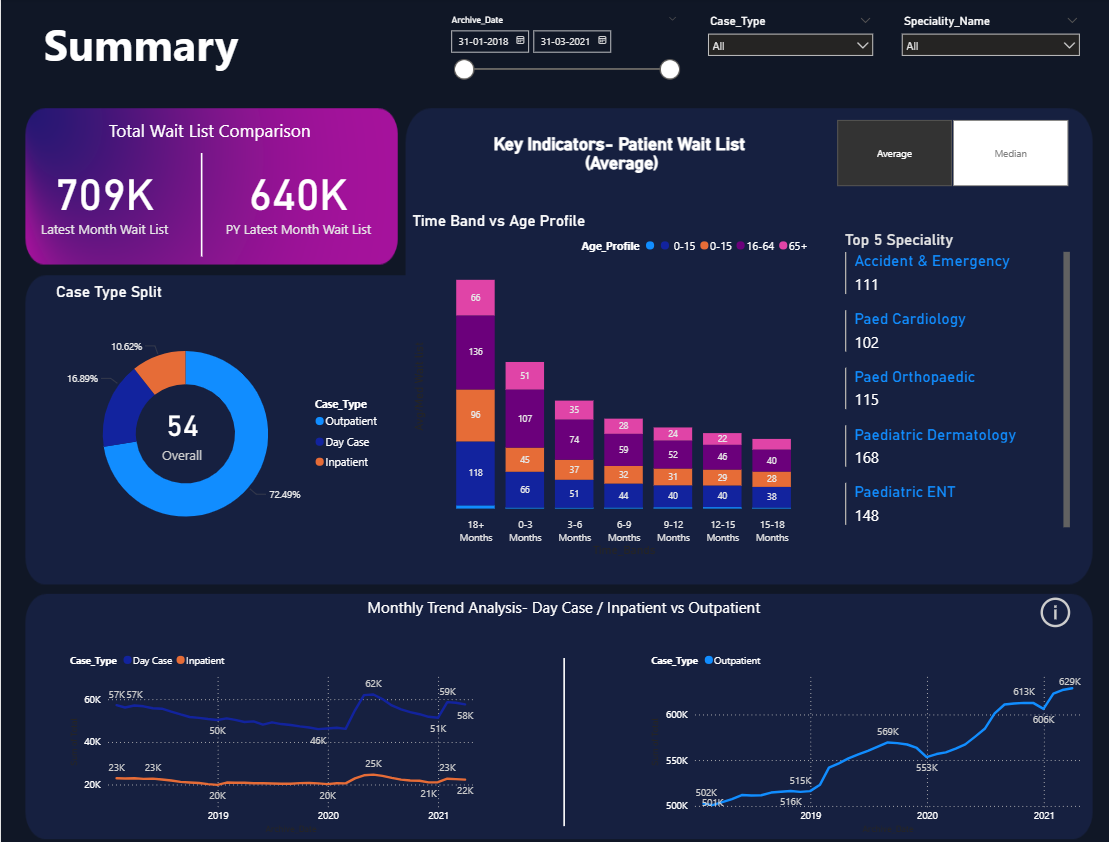

Layout of this report page (visuals, bound fields, positions):
{"tool":"powerbi","page":{"name":"Summary","canvas":[1380,1056],"ordinal":0},"visuals":[{"type":"card","fields":{"Values":["All_Data.Latest Month Wait List"]},"box":[32,192,192,112],"z":0},{"type":"card","fields":{"Values":["All_Data.PY Latest Month Wait List"]},"box":[272,192,192,112],"z":1000},{"type":"slicer","fields":{"Values":["Calculation Method.calc method"]},"box":[1008.4,143.8,335.6,95.9],"z":2000},{"type":"card","fields":{"Values":["All_Data.Avg/Med Wait list"]},"box":[176,496,96,80],"z":3000},{"type":"donutChart","title":"Case Type Split","fields":{"Category":["All_Data.Case_Type"],"Y":["All_Data.Avg/Med Wait list"]},"box":[64,352,416,352],"z":4000},{"type":"columnChart","title":"Time Band vs Age Profile","fields":{"Category":["All_Data.Time_Bands"],"Y":["All_Data.Avg/Med Wait list"],"Series":["All_Data.Age_Profile"]},"box":[504,264,504,432],"z":5000},{"type":"multiRowCard","title":"Top 5 Speciality","fields":{"Values":["All_Data.Speciality_Name","All_Data.Avg/Med Wait list"]},"box":[1040,288,288,384],"z":6000},{"type":"card","fields":{"Values":["All_Data.No Data Left"]},"box":[144,848,384,112],"z":7000},{"type":"lineChart","fields":{"Category":["All_Data.Archive_Date"],"Y":["Sum(All_Data.Total)"],"Series":["All_Data.Case_Type"]},"box":[80,800,512,240],"z":8000},{"type":"card","fields":{"Values":["All_Data.No Data Right"]},"box":[848,848,384,112],"z":9000},{"type":"lineChart","fields":{"Category":["All_Data.Archive_Date"],"Y":["Sum(All_Data.Total)"],"Series":["All_Data.Case_Type"]},"box":[800,800,544,240],"z":10000},{"type":"slicer","fields":{"Values":["All_Data.Archive_Date"]},"box":[544,16,304,112],"z":11000},{"type":"slicer","fields":{"Values":["All_Data.Case_Type"]},"box":[864,16,224,80],"z":12000},{"type":"slicer","fields":{"Values":["All_Data.Speciality_Name"]},"box":[1104,16,240,80],"z":13000},{"type":"textbox","box":[48,16,272,96],"z":14000},{"type":"textbox","box":[128,144,336,64],"z":15000},{"type":"shape","box":[224,192,48,128],"z":16000},{"type":"textbox","box":[448,736,608,48],"z":17000},{"type":"shape","box":[672,816,48,208],"z":18000},{"type":"card","fields":{"Values":["All_Data.Dynamic Title"]},"box":[552,144,432,96],"z":19000},{"type":"actionButton","box":[1280,736,48,48],"z":20000}]}

Visuals, with their boxes in screenshot pixels (x1, y1, x2, y2), scaled from the page's 1380x1056 canvas onto the 1109x842 screenshot:
card - All_Data.Latest Month Wait List: select_region(26, 153, 180, 242)
card - All_Data.PY Latest Month Wait List: select_region(219, 153, 373, 242)
slicer - Calculation Method.calc method: select_region(810, 115, 1080, 191)
card - All_Data.Avg/Med Wait list: select_region(141, 395, 219, 459)
"Case Type Split" donutChart: select_region(51, 281, 386, 561)
"Time Band vs Age Profile" columnChart: select_region(405, 210, 810, 555)
"Top 5 Speciality" multiRowCard: select_region(836, 230, 1067, 536)
card - All_Data.No Data Left: select_region(116, 676, 424, 765)
lineChart - All_Data.Archive_Date x Sum(All_Data.Total): select_region(64, 638, 476, 829)
card - All_Data.No Data Right: select_region(681, 676, 990, 765)
lineChart - All_Data.Archive_Date x Sum(All_Data.Total): select_region(643, 638, 1080, 829)
slicer - All_Data.Archive_Date: select_region(437, 13, 681, 102)
slicer - All_Data.Case_Type: select_region(694, 13, 874, 77)
slicer - All_Data.Speciality_Name: select_region(887, 13, 1080, 77)
textbox: select_region(39, 13, 257, 89)
textbox: select_region(103, 115, 373, 166)
shape: select_region(180, 153, 219, 255)
textbox: select_region(360, 587, 849, 625)
shape: select_region(540, 651, 579, 816)
card - All_Data.Dynamic Title: select_region(444, 115, 791, 191)
actionButton: select_region(1029, 587, 1067, 625)
